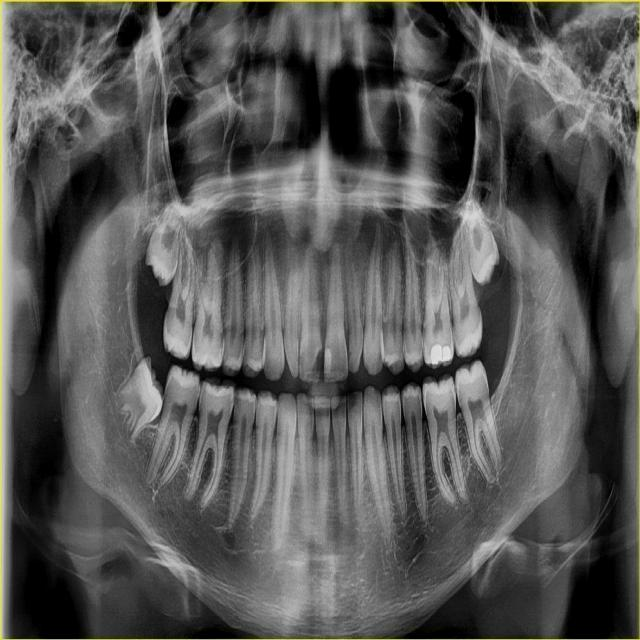Caries: (310, 346, 323, 381), (234, 391, 241, 413)
Filling: (430, 345, 453, 366), (324, 346, 334, 378)
impacted tooth: (145, 201, 199, 281), (463, 194, 506, 284)
